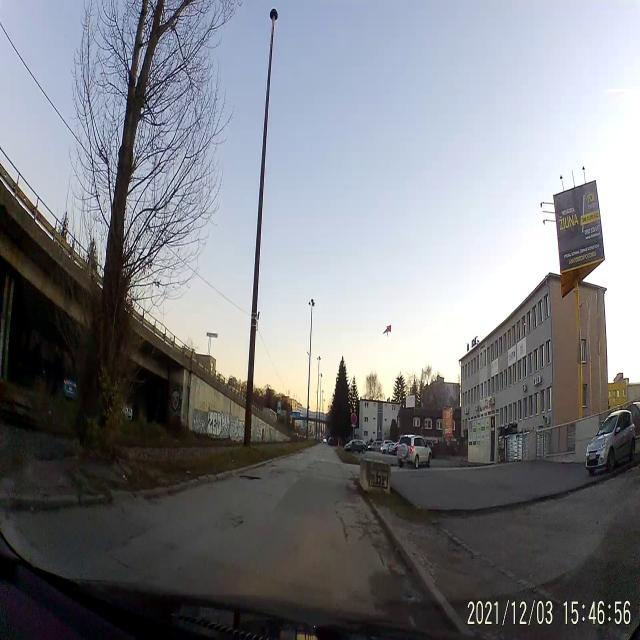Pothole: (228, 512, 245, 530), (236, 474, 263, 484)
